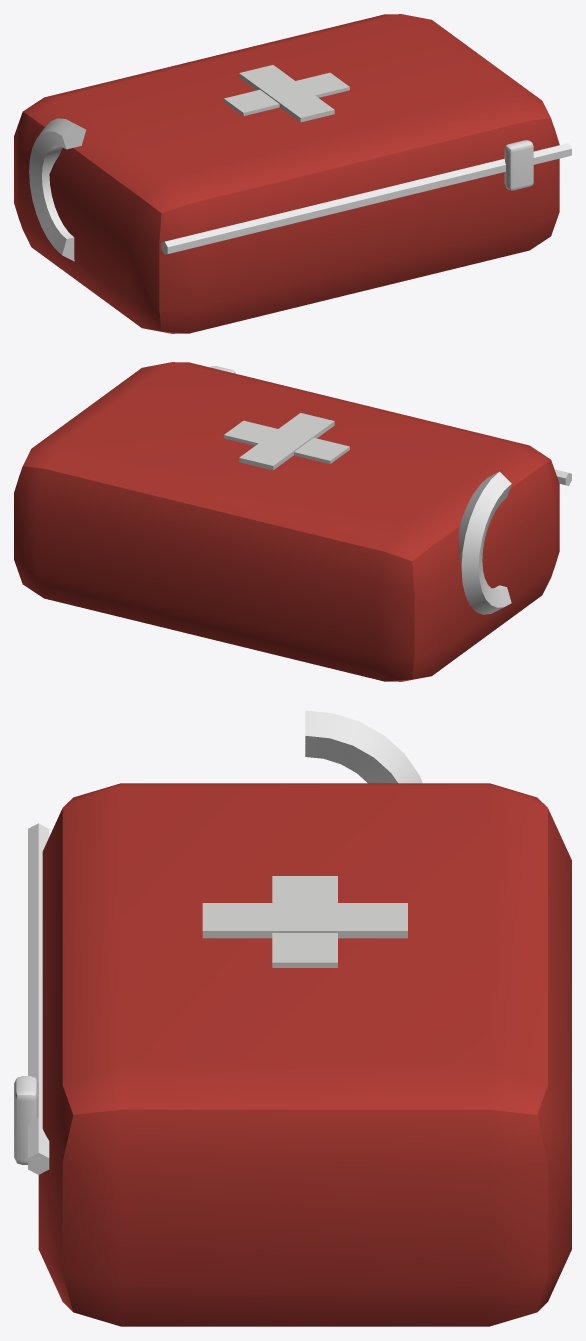
File: SM_EQ_FirstAid.fbx
The picture shows the model from 3 angles, top to bottom: view 1: azimuth 30°, elevation 25°; view 2: azimuth 150°, elevation 25°; view 3: azimuth 270°, elevation 25°; orthographic projection. The views are drawn at different scales.
Visible parts, largest first — view 1: SM_EQ_FirstAid; view 2: SM_EQ_FirstAid; view 3: SM_EQ_FirstAid.
Boxes of the visible parts, x1,y1,x2,y2 form: SM_EQ_FirstAid: (14, 14, 571, 333); SM_EQ_FirstAid: (14, 362, 571, 681); SM_EQ_FirstAid: (14, 710, 571, 1326).
Size of the model in its own units: 20.57 by 8.1 by 13.6.
